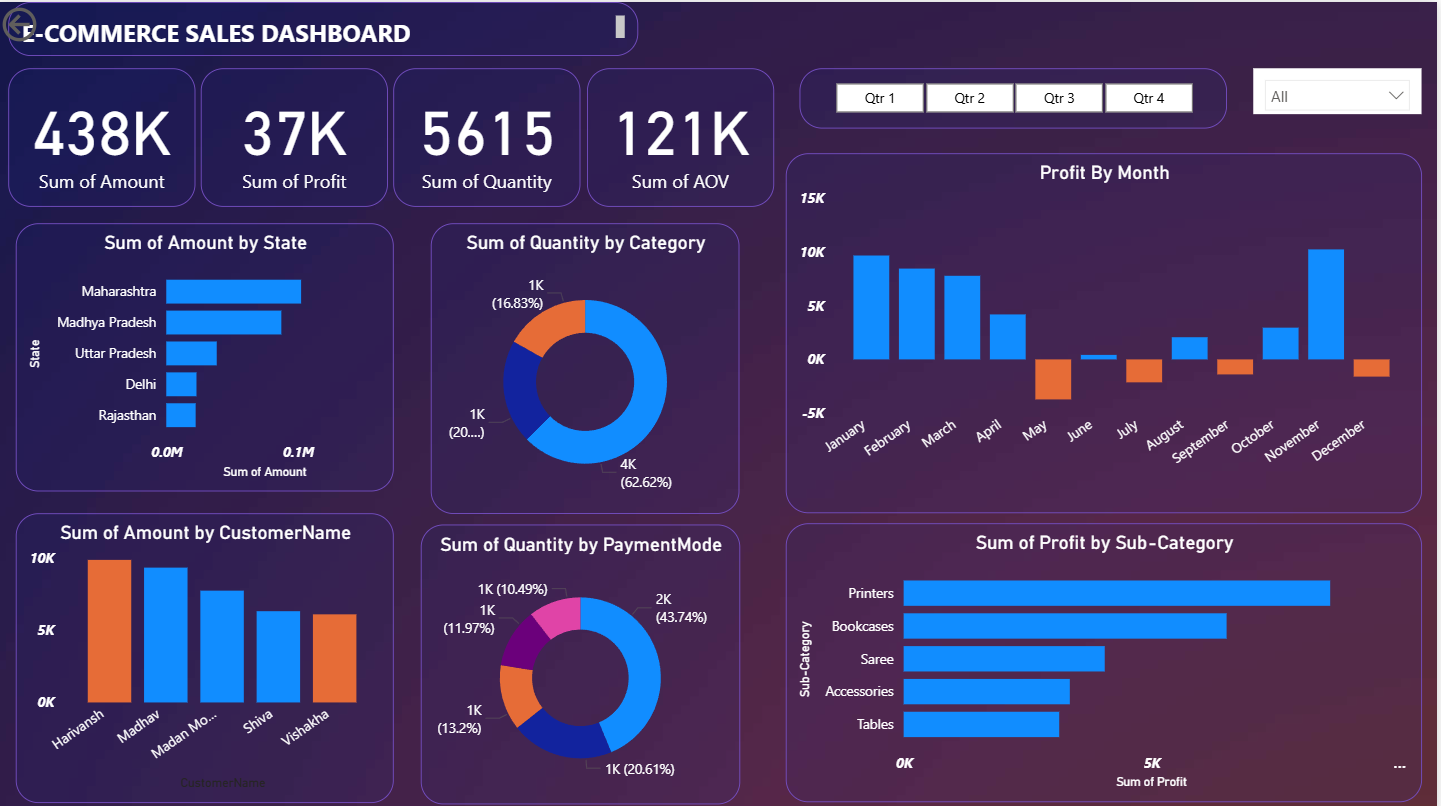

What the dashboard file says about the page in this screenshot:
{"tool":"powerbi","page":{"name":"Page 1","canvas":[1280,720],"ordinal":0},"visuals":[{"type":"textbox","box":[9.8,0,395.5,47.9],"z":0},{"type":"columnChart","title":"Profit By Month","fields":{"Category":["Orders.Order Date.Variation.Date Hierarchy.Month"],"Y":["Details.Profit"]},"box":[701.2,134.5,565.4,319.7],"z":1000},{"type":"clusteredBarChart","fields":{"Category":["Details.Sub-Category"],"Y":["Details.Profit"]},"box":[701.2,463.8,565.4,248.4],"z":2000},{"type":"donutChart","fields":{"Category":["Details.Category"],"Y":["Details.Quantity"]},"box":[386,196.5,274.4,258.1],"z":3000},{"type":"donutChart","fields":{"Y":["Details.Amount"],"Category":["Details.PaymentMode"]},"box":[376.7,464,283.7,248.8],"z":4000},{"type":"card","fields":{"Values":["Details.Amount"]},"box":[10.5,59.3,166.3,123.3],"z":5000},{"type":"card","fields":{"Values":["Details.Profit"]},"box":[181.4,59.3,166.3,123.3],"z":6000},{"type":"card","fields":{"Values":["Details.Quantity"]},"box":[352.3,59.3,166.3,123.3],"z":7000},{"type":"card","fields":{"Values":["Details.AOV"]},"box":[524.4,59.3,166.3,123.3],"z":8000},{"type":"clusteredBarChart","fields":{"Category":["Orders.State"],"Y":["Details.Amount"]},"box":[16.5,196.2,336.2,238.8],"z":9000},{"type":"columnChart","fields":{"Category":["Orders.CustomerName"],"Y":["Details.Amount"]},"box":[16.5,454.2,336.2,258],"z":10000},{"type":"slicer","fields":{"Values":["Orders.Order Date.Variation.Date Hierarchy.Quarter"]},"box":[713.6,59,380.1,53.5],"z":11000},{"type":"slicer","fields":{"Values":["Orders.State"]},"box":[1117,59,149.6,41.2],"z":12000}]}

Visuals, with their boxes in screenshot pixels (x1, y1, x2, y2), scaled from the page's 1280x720 canvas onto the 1441x806 screenshot:
textbox: crop(11, 0, 456, 54)
"Profit By Month" columnChart: crop(789, 151, 1426, 508)
clusteredBarChart - Details.Sub-Category x Details.Profit: crop(789, 519, 1426, 797)
donutChart - Details.Category x Details.Quantity: crop(435, 220, 743, 509)
donutChart - Details.Amount x Details.PaymentMode: crop(424, 519, 743, 798)
card - Details.Amount: crop(12, 66, 199, 204)
card - Details.Profit: crop(204, 66, 391, 204)
card - Details.Quantity: crop(397, 66, 584, 204)
card - Details.AOV: crop(590, 66, 778, 204)
clusteredBarChart - Orders.State x Details.Amount: crop(19, 220, 397, 487)
columnChart - Orders.CustomerName x Details.Amount: crop(19, 508, 397, 797)
slicer - Orders.Order Date.Variation.Date Hierarchy.Quarter: crop(803, 66, 1231, 126)
slicer - Orders.State: crop(1257, 66, 1426, 112)
